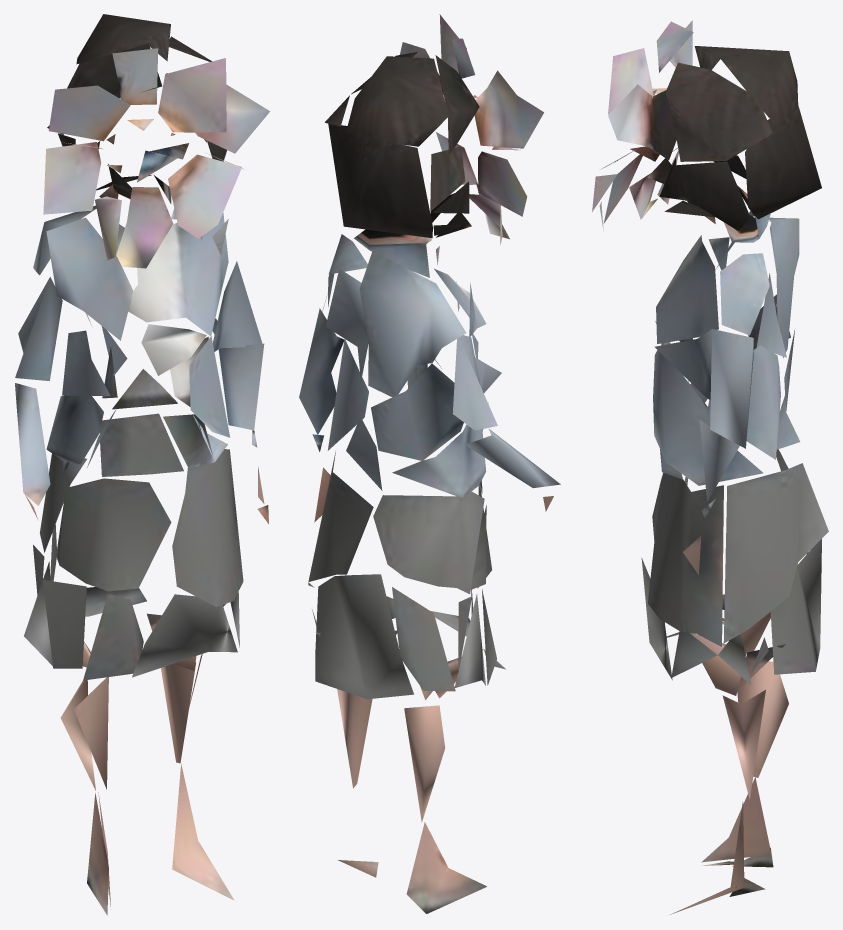
Rendered from crowd_blindwoman_lite.glb.
The picture shows the model from 3 angles, left to right: view 1: azimuth 30°, elevation 25°; view 2: azimuth 150°, elevation 25°; view 3: azimuth 270°, elevation 25°; orthographic projection. The views are drawn at different scales.
Parts seen in each view (by area): view 1: tripo_node_392579ae-6eb2-4f6c-9963-05eded6e2730; view 2: tripo_node_392579ae-6eb2-4f6c-9963-05eded6e2730; view 3: tripo_node_392579ae-6eb2-4f6c-9963-05eded6e2730.
Boxes of the visible parts, x1,y1,x2,y2 form: tripo_node_392579ae-6eb2-4f6c-9963-05eded6e2730: (15, 14, 269, 915); tripo_node_392579ae-6eb2-4f6c-9963-05eded6e2730: (299, 14, 560, 913); tripo_node_392579ae-6eb2-4f6c-9963-05eded6e2730: (592, 20, 828, 914).
Size of the model in its own units: 0.5425 by 1.81 by 0.4568.
Materials: 1 (1 with a texture image).
